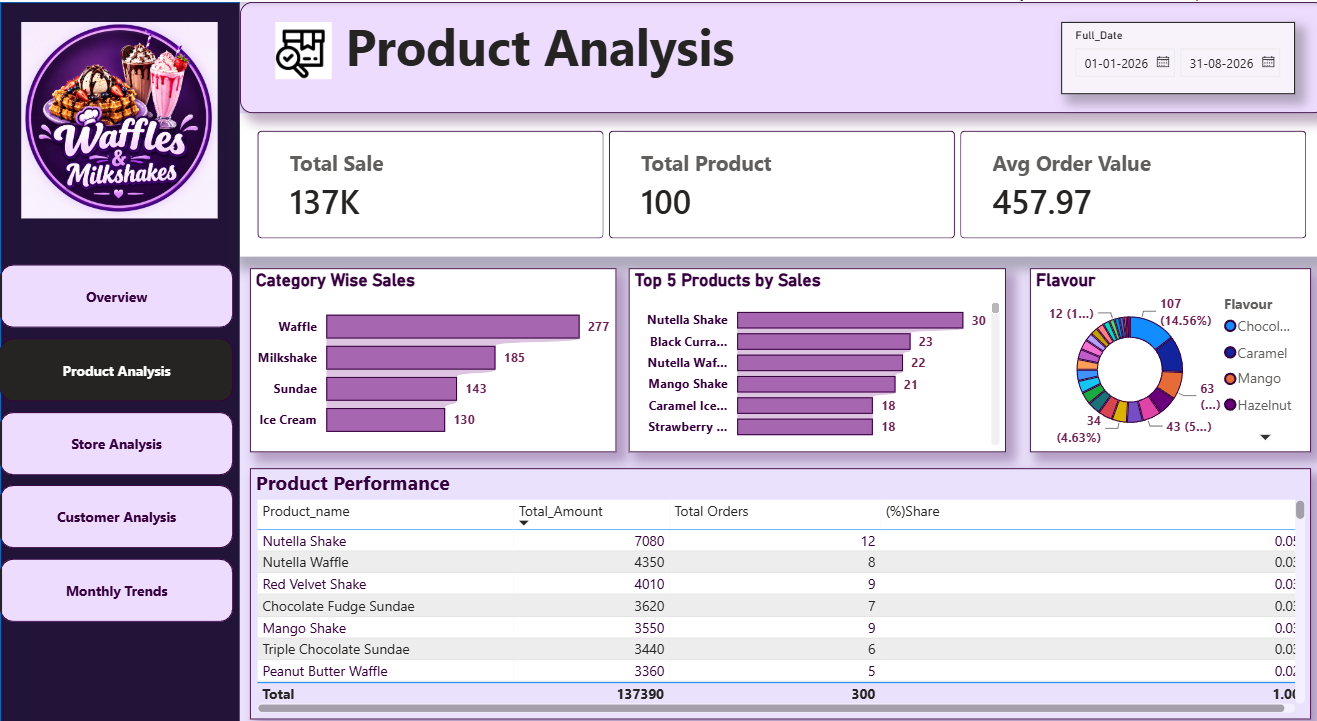

What the dashboard file says about the page in this screenshot:
{"tool":"powerbi","page":{"name":"Product Analysis","canvas":[1280,720],"ordinal":1},"visuals":[{"type":"shape","box":[0,0,231.6,720.2],"z":0},{"type":"cardVisual","title":"Total Orders","fields":{"Data":["FACT_SALES.Total Sale","DIM_PRODUCT.Total Product","FACT_SALES.Avg Order Value"]},"box":[231.6,107.4,1048.4,138.7],"z":1000},{"type":"barChart","title":"Category Wise Sales","fields":{"Category":["DIM_PRODUCT.Category"],"Y":["Sum(FACT_SALES.Quantity)"]},"box":[241.3,257,353.5,177.3],"z":2000},{"type":"barChart","title":"Top 5 Products by Sales","fields":{"Category":["DIM_PRODUCT.Product_Name"],"Y":["Sum(FACT_SALES.Quantity)"]},"box":[606.8,257,364.3,177.3],"z":3000},{"type":"donutChart","title":"Flavour","fields":{"Category":["DIM_PRODUCT.Flavour"],"Y":["Sum(FACT_SALES.Quantity)"]},"box":[994.1,257,271.4,177.3],"z":4000},{"type":"tableEx","title":"Product Performance","fields":{"Values":["DIM_PRODUCT.Product_name","Sum(FACT_SALES.Total_Amount)","DIM_STORE.Total Orders","FACT_SALES.%Share"]},"box":[241.3,450,1024.3,242.5],"z":5000},{"type":"textbox","box":[232.1,0,1047.9,107.5],"z":6000},{"type":"slicer","fields":{"Values":["DIM_DATE.Full_Date"]},"box":[1023.7,19.5,226,69.6],"z":7000},{"type":"pageNavigator","box":[0,253.4,225.6,347.5],"z":8000},{"type":"image","box":[254.6,19.3,77.2,55.5],"z":9000},{"type":"image","box":[18.1,19.3,194.2,189.4],"z":10000}]}

Visuals, with their boxes in screenshot pixels (x1, y1, x2, y2), scaled from the page's 1280x720 canvas onto the 1317x721 screenshot:
shape: pyautogui.locateOnScreen(0, 0, 238, 720)
"Total Orders" cardVisual: pyautogui.locateOnScreen(238, 108, 1316, 246)
"Category Wise Sales" barChart: pyautogui.locateOnScreen(248, 257, 612, 435)
"Top 5 Products by Sales" barChart: pyautogui.locateOnScreen(624, 257, 999, 435)
"Flavour" donutChart: pyautogui.locateOnScreen(1023, 257, 1302, 435)
"Product Performance" tableEx: pyautogui.locateOnScreen(248, 451, 1302, 693)
textbox: pyautogui.locateOnScreen(239, 0, 1316, 108)
slicer - DIM_DATE.Full_Date: pyautogui.locateOnScreen(1053, 20, 1286, 89)
pageNavigator: pyautogui.locateOnScreen(0, 254, 232, 602)
image: pyautogui.locateOnScreen(262, 19, 341, 75)
image: pyautogui.locateOnScreen(19, 19, 218, 209)
